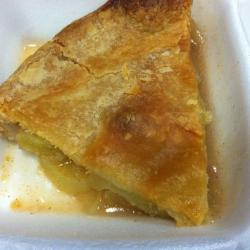apple_pie: (3, 2, 226, 225)
